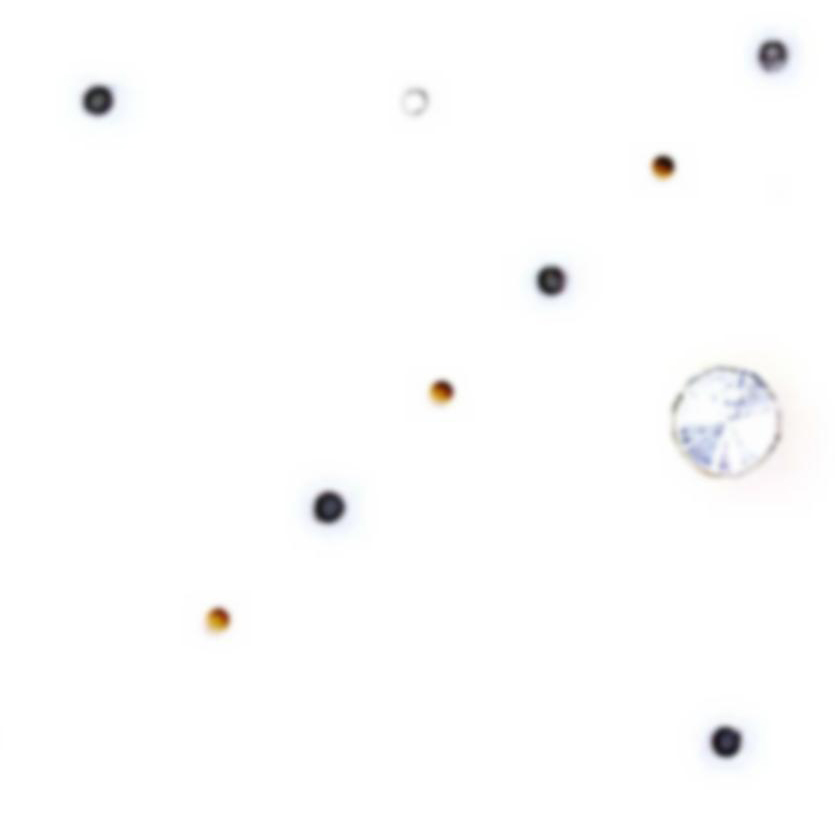abnormal: (635, 316, 821, 508), (374, 66, 462, 149)
cancer: (290, 462, 368, 551), (66, 66, 151, 141), (694, 704, 771, 780), (737, 29, 812, 101), (527, 235, 593, 316)
normal: (632, 143, 699, 199), (408, 368, 483, 415), (191, 594, 249, 651)
